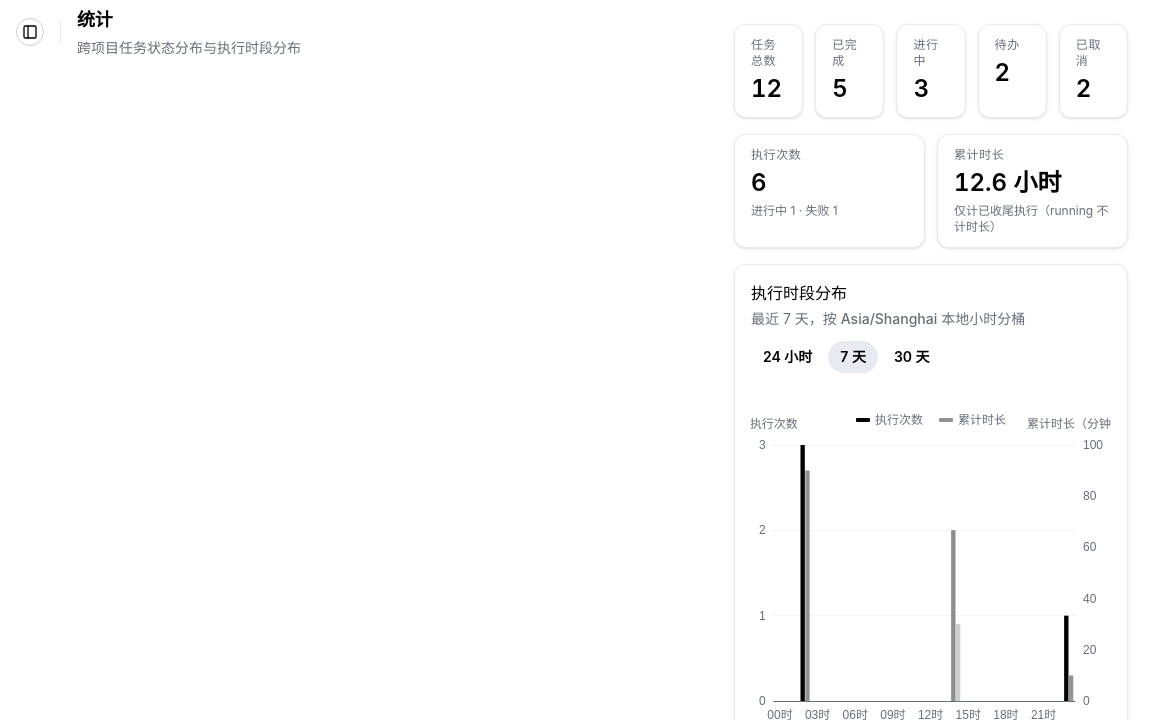
StatsPage 统计页 › 窗口切换 24 小时 / 30 天：按新 hours 取数，口径文案随之更新
The image size is (1152, 720).
Click the button "24 小时" at (788, 357), box x1=751 y1=341 x2=824 y2=373
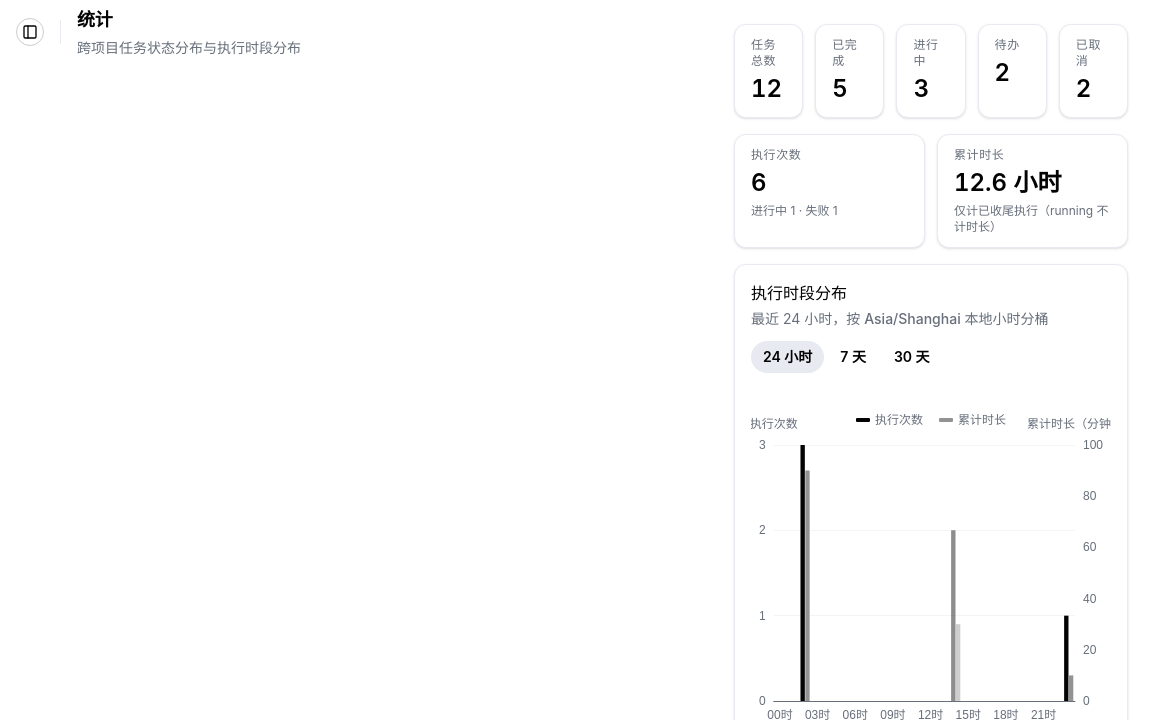
Expected: the text "最近 24 小时，按 Asia/Shanghai 本地小时分桶" is shown, x1=751 y1=309 x2=1049 y2=329
Click the button "30 天" at (912, 357), box x1=882 y1=341 x2=942 y2=373
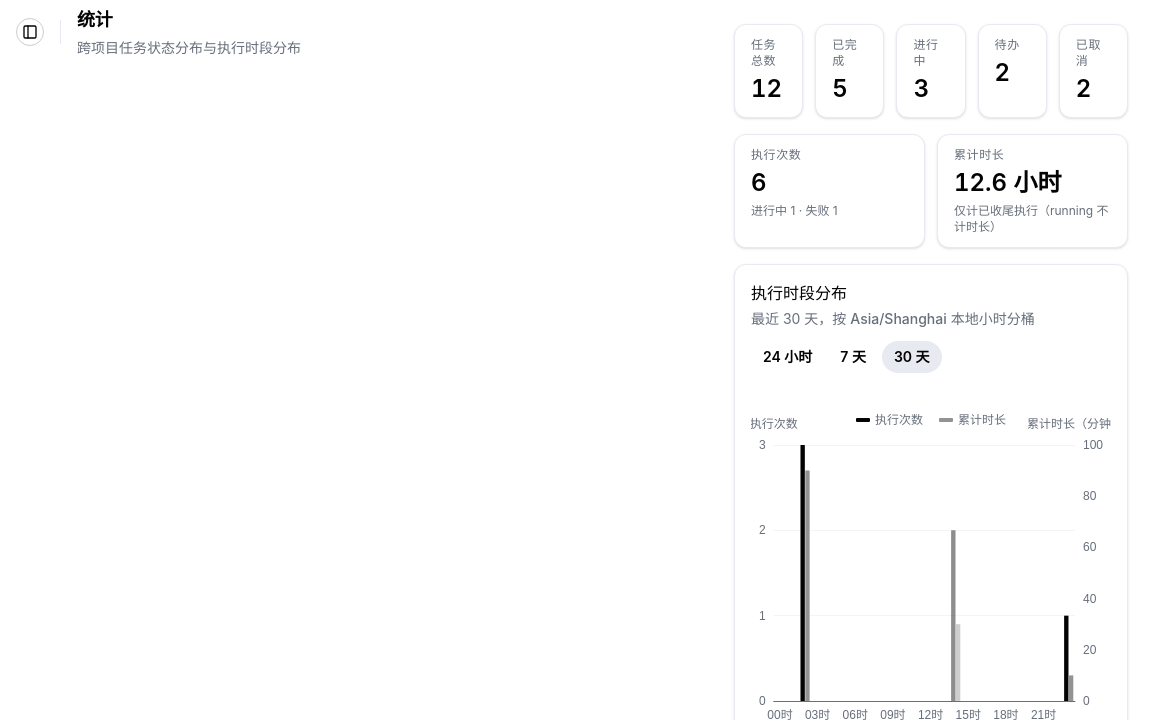
Expected: the text "最近 30 天，按 Asia/Shanghai 本地小时分桶" is shown, x1=751 y1=309 x2=1035 y2=329
